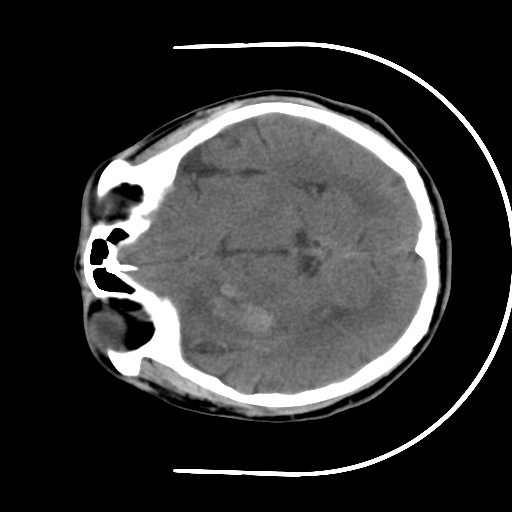a: (178, 272, 288, 348)
